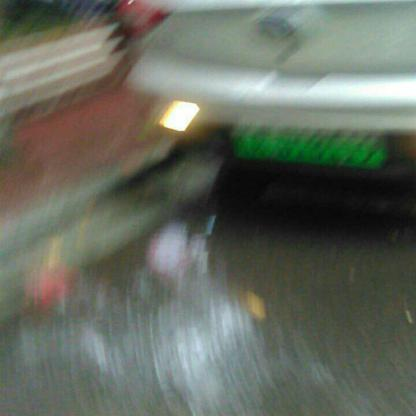lp: (232, 128, 382, 168)
